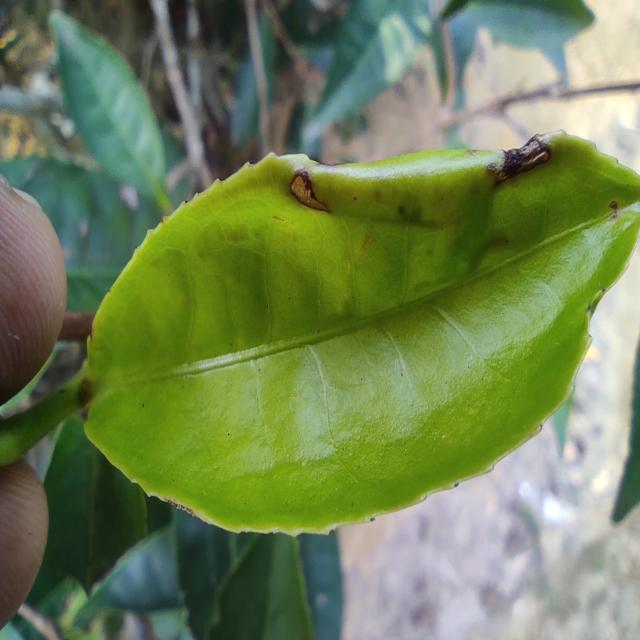Category C 4-7 days: (59, 112, 640, 548)
